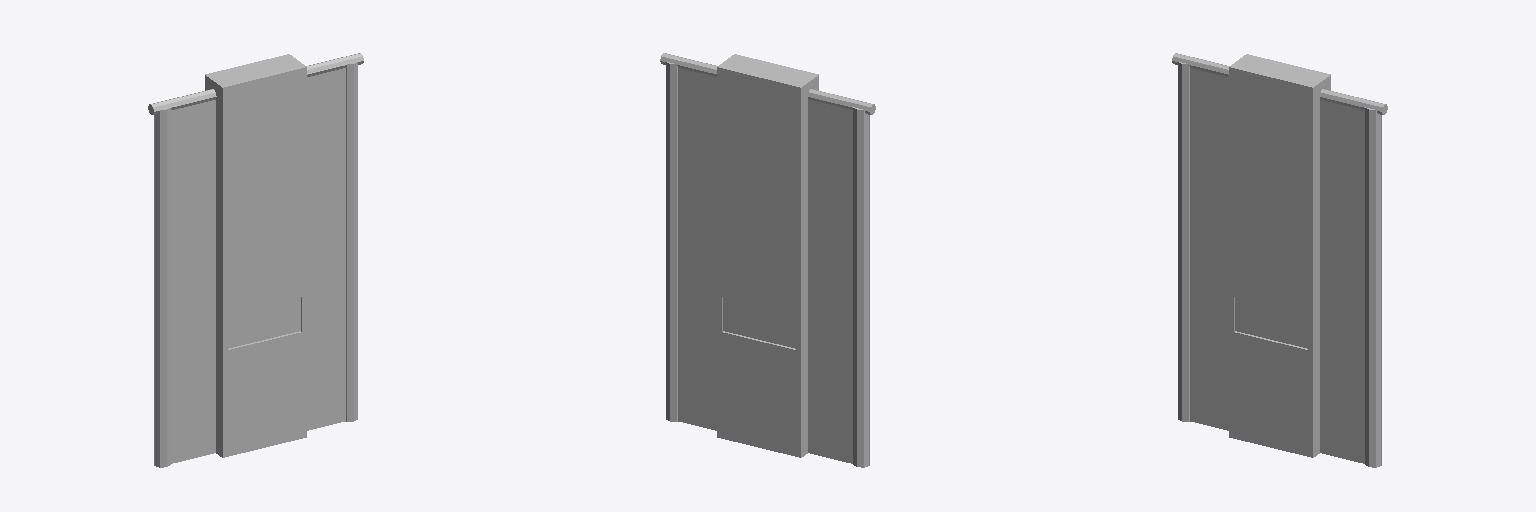
Rendered from Door_Cylinder_001.obj.
3 views of the same model, side by side, from view 1: azimuth 30°, elevation 25°; view 2: azimuth 150°, elevation 25°; view 3: azimuth 330°, elevation 25° (orthographic).
Visible parts, largest first — view 1: Door_Cylinder.001; view 2: Door_Cylinder.001; view 3: Door_Cylinder.001.
Part boxes in pixels (bbox=[...]): Door_Cylinder.001: bbox=[148, 53, 363, 467]; Door_Cylinder.001: bbox=[660, 53, 875, 467]; Door_Cylinder.001: bbox=[1172, 53, 1387, 467].
Bounding box in the file's own units: 0.6896 × 1.16 × 0.1021.